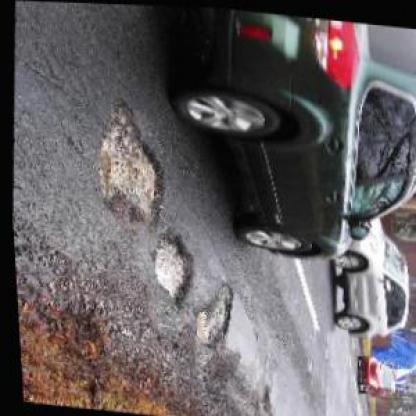pothole: (84, 98, 174, 232), (143, 229, 197, 306), (186, 277, 236, 351)
